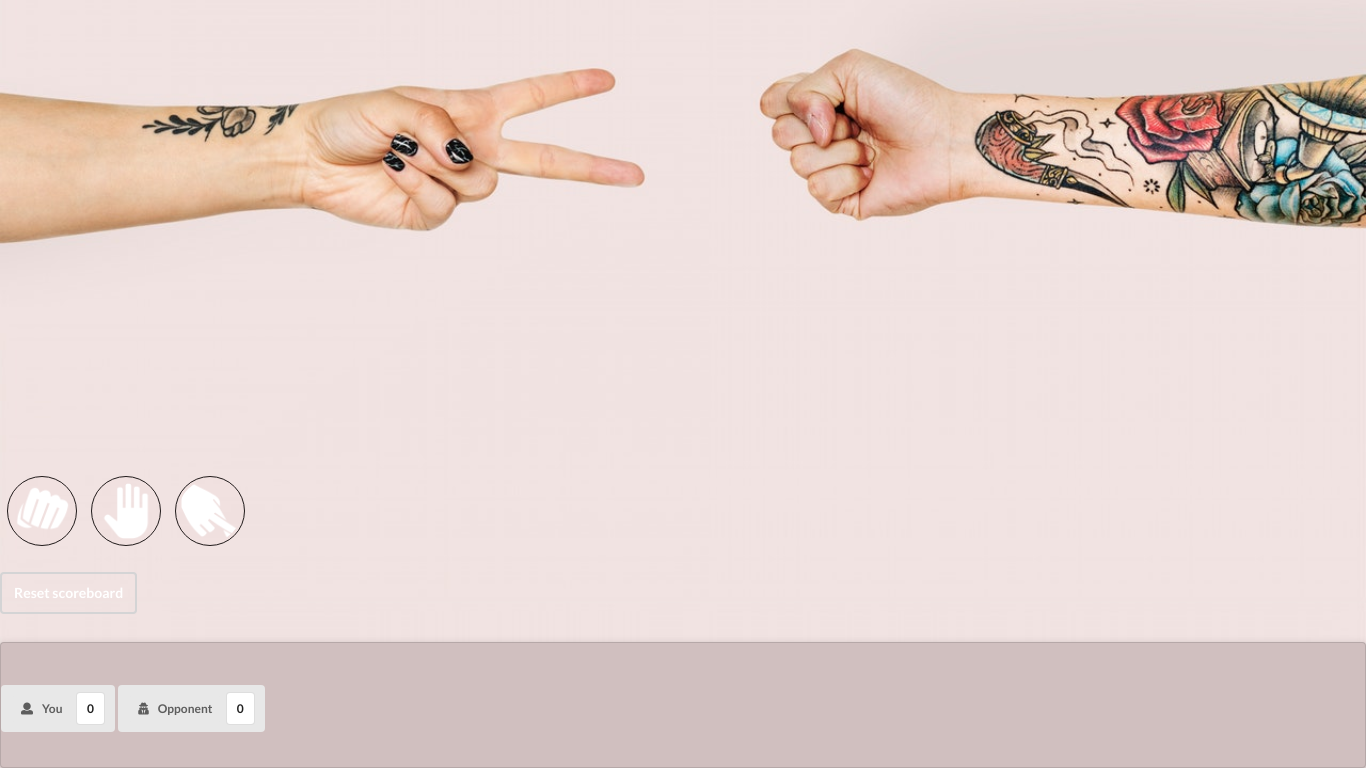
Test: <Game /> › shows computer as the winner if scissors beats rock
(page scrolled)
Click the picture with id "rock-btn" at (42, 511), box [7, 476, 77, 546]
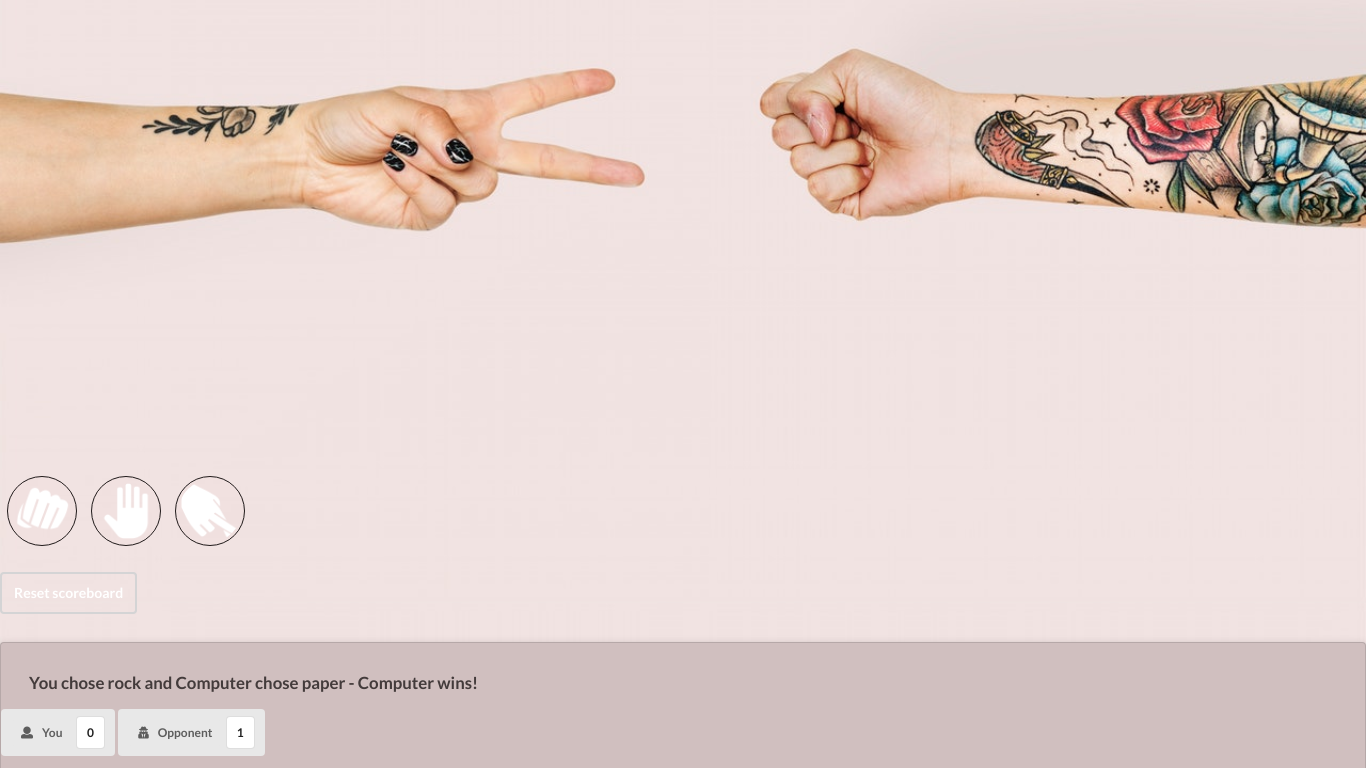
Check: the text "You chose rock and Computer chose paper - Computer wins!" is shown, box [29, 672, 478, 693]
